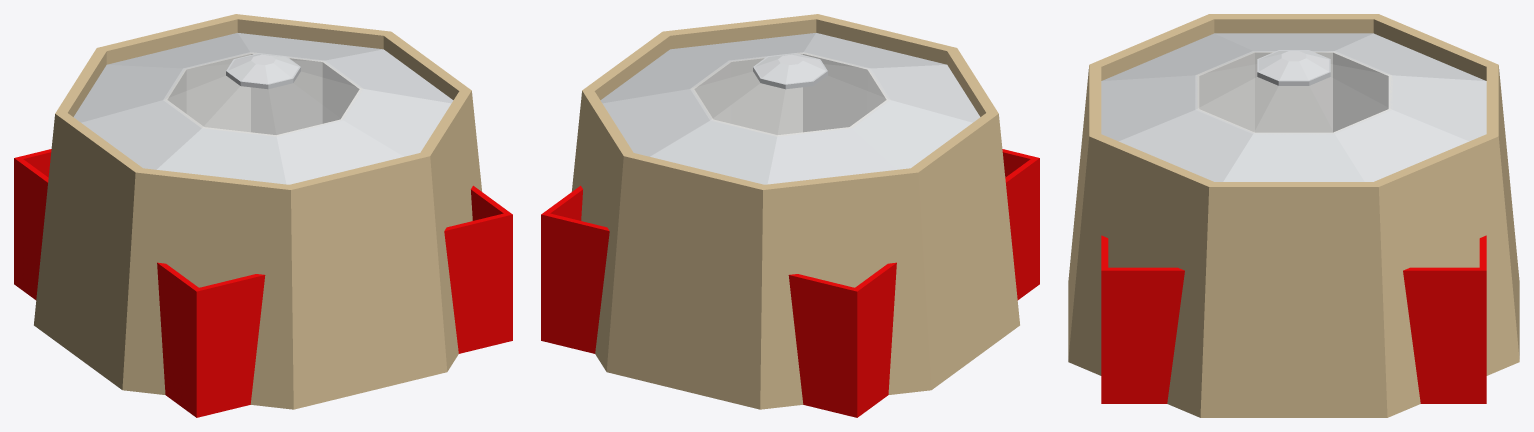
File: sala.glb
The picture shows the model from 3 angles, left to right: view 1: azimuth 30°, elevation 25°; view 2: azimuth 150°, elevation 25°; view 3: azimuth 270°, elevation 25°; orthographic projection. The views are drawn at different scales.
Parts seen in each view (by area): view 1: Muros_exteriores, Cubierta_facetada, COL_muro_sur, Tragaluz_piramide, Pozo_de_luz, COL_muro_oeste, Tragaluz_linterna, Tragaluz_cupula, COL_muro_norte, COL_muro_este; view 2: Muros_exteriores, Cubierta_facetada, COL_muro_norte, Tragaluz_piramide, Pozo_de_luz, COL_muro_oeste, Tragaluz_linterna, Tragaluz_cupula, COL_muro_este, COL_muro_sur; view 3: Muros_exteriores, Cubierta_facetada, COL_muro_este, Tragaluz_piramide, Pozo_de_luz, Tragaluz_linterna, Tragaluz_cupula, COL_muro_sur, COL_muro_norte.
Boxes of the visible parts, x1,y1,x2,y2 form: Muros_exteriores: (34, 14, 482, 409); Cubierta_facetada: (73, 33, 453, 184); COL_muro_sur: (193, 212, 512, 417); Tragaluz_piramide: (163, 52, 363, 136); Pozo_de_luz: (164, 52, 362, 136); COL_muro_oeste: (14, 158, 202, 417); Tragaluz_linterna: (226, 53, 300, 89); Tragaluz_cupula: (228, 54, 298, 83); COL_muro_norte: (14, 149, 51, 286); COL_muro_este: (471, 185, 512, 243); Muros_exteriores: (571, 14, 1019, 409); Cubierta_facetada: (600, 33, 980, 184); COL_muro_norte: (541, 212, 859, 417); Tragaluz_piramide: (690, 52, 890, 136); Pozo_de_luz: (691, 52, 889, 136); COL_muro_oeste: (851, 158, 1039, 417); Tragaluz_linterna: (753, 53, 827, 89); Tragaluz_cupula: (755, 54, 825, 83); COL_muro_este: (541, 185, 582, 331); COL_muro_sur: (1002, 149, 1039, 286); Muros_exteriores: (1068, 14, 1519, 417); Cubierta_facetada: (1101, 33, 1486, 181); COL_muro_este: (1101, 267, 1486, 403); Tragaluz_piramide: (1195, 51, 1392, 133); Pozo_de_luz: (1195, 52, 1392, 134); Tragaluz_linterna: (1257, 50, 1330, 85); Tragaluz_cupula: (1259, 51, 1328, 79); COL_muro_sur: (1101, 235, 1108, 403); COL_muro_norte: (1479, 235, 1486, 403).
Size of what is drawn, in the model's own units: 12.9 by 8.45 by 12.9.
